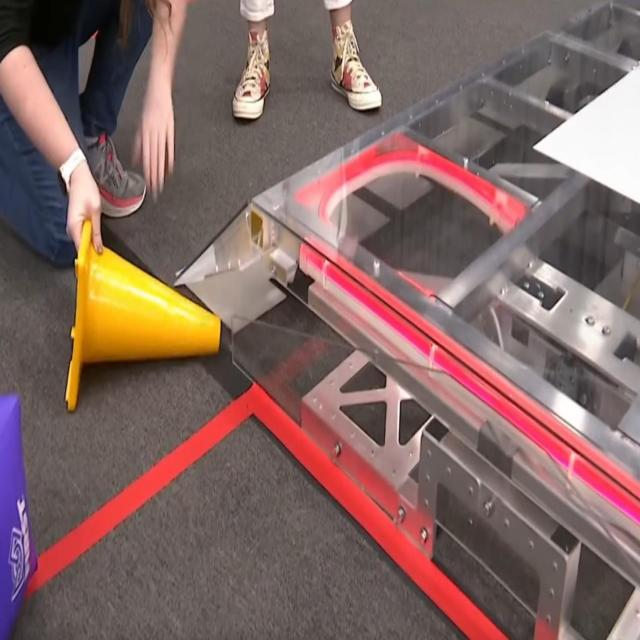frc_cone: (66, 213, 222, 420)
frc_cube: (0, 388, 34, 640)
